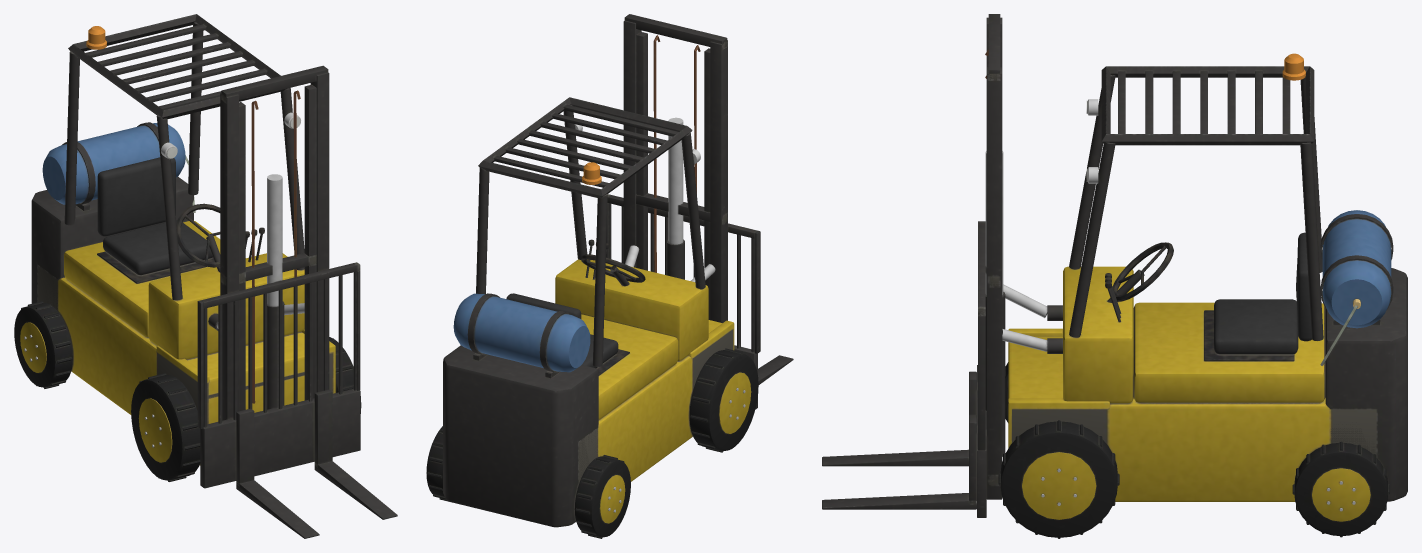
File: empilhadeira.glb
3 views of the same model, side by side, from view 1: azimuth 30°, elevation 25°; view 2: azimuth 150°, elevation 25°; view 3: azimuth 270°, elevation 25° (orthographic). The views are drawn at different scales.
Visible parts, largest first — view 1: empilhadeira; view 2: empilhadeira; view 3: empilhadeira.
Part boxes in pixels (x1,y1,x2,y2): empilhadeira: (14, 14, 397, 538); empilhadeira: (426, 14, 793, 538); empilhadeira: (822, 14, 1407, 538).
Bounding box in the file's own units: 1.24 × 2.53 × 2.99.
1 material, 1 textured.
